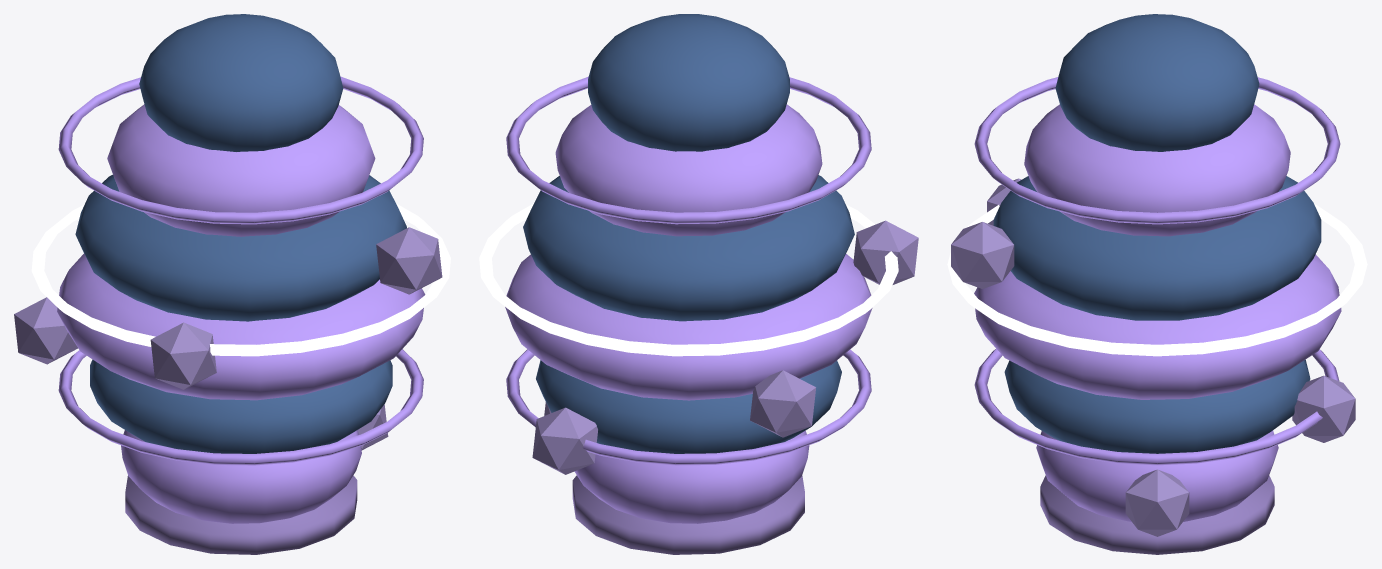
File: egg_cosmic_04.glb
The picture shows the model from 3 angles, left to right: view 1: azimuth 30°, elevation 25°; view 2: azimuth 150°, elevation 25°; view 3: azimuth 270°, elevation 25°; orthographic projection.
Parts seen in each view (by area): view 1: ball; view 2: ball; view 3: ball.
Boxes of the visible parts, bbox=[...] form: ball: bbox=[14, 14, 450, 554]; ball: bbox=[479, 14, 918, 554]; ball: bbox=[947, 14, 1367, 554].
Bounding box in the file's own units: 0.79 × 0.99 × 0.79.
